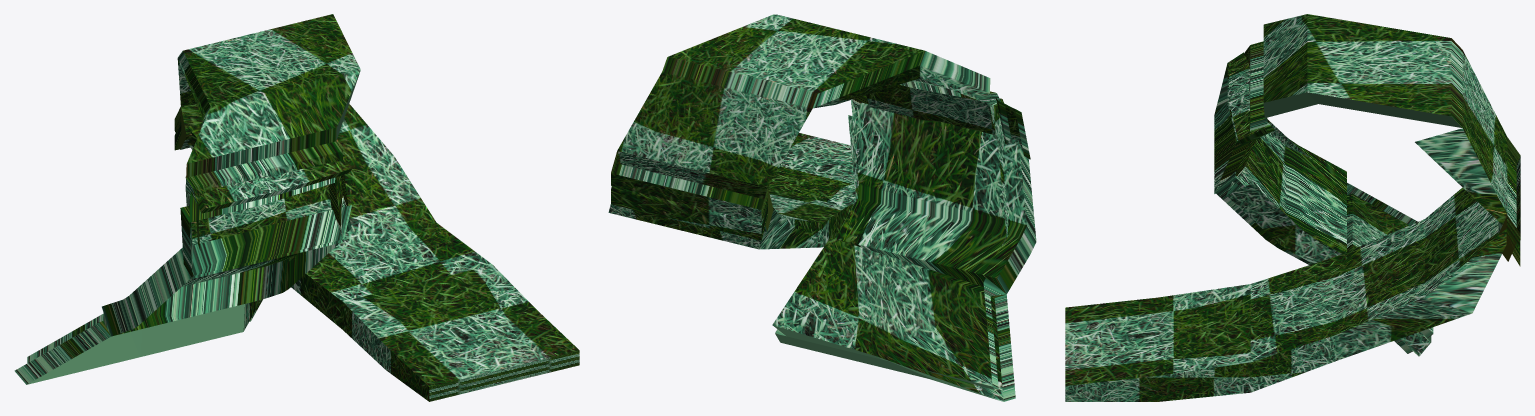
The model's file is Floor12.fbx.
3 views of the same model, side by side, from view 1: azimuth 30°, elevation 25°; view 2: azimuth 150°, elevation 25°; view 3: azimuth 270°, elevation 25° (orthographic). The views are drawn at different scales.
Visible parts, largest first — view 1: Floor.002; view 2: Floor.002; view 3: Floor.002.
Boxes of the visible parts, x1=… form: Floor.002: x1=14, y1=14, x2=579, y2=401; Floor.002: x1=608, y1=14, x2=1036, y2=401; Floor.002: x1=1065, y1=14, x2=1520, y2=401.
Size of the model in its own units: 131 by 88.79 by 123.
